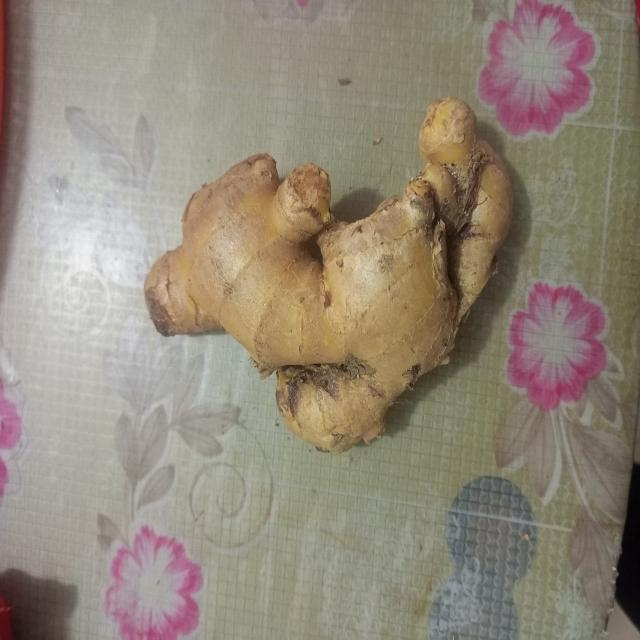ginger: (154, 108, 506, 434)
